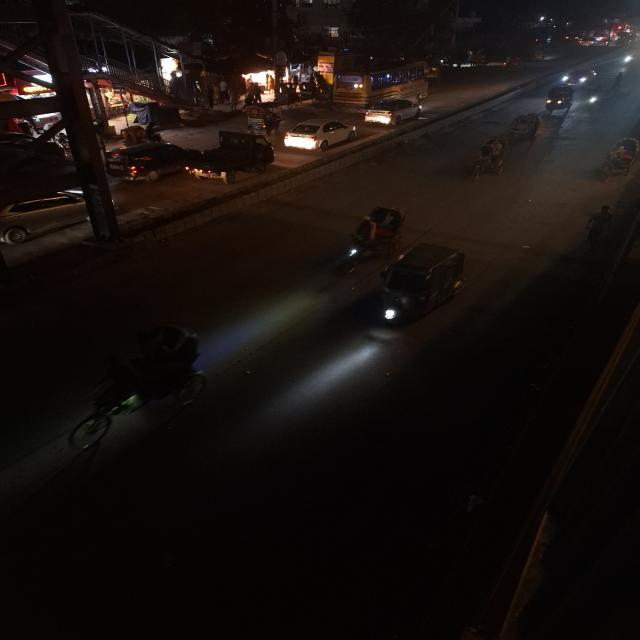bus: (322, 60, 434, 104)
car: (283, 116, 359, 154), (359, 95, 428, 128), (559, 67, 600, 87)
cng: (373, 242, 472, 328), (540, 84, 580, 116)
motorcycle: (56, 318, 212, 460)
pickup_van: (187, 132, 278, 186)
rickshaw: (339, 202, 408, 270), (464, 135, 512, 181), (598, 135, 640, 181), (234, 103, 285, 132), (506, 111, 544, 143)
